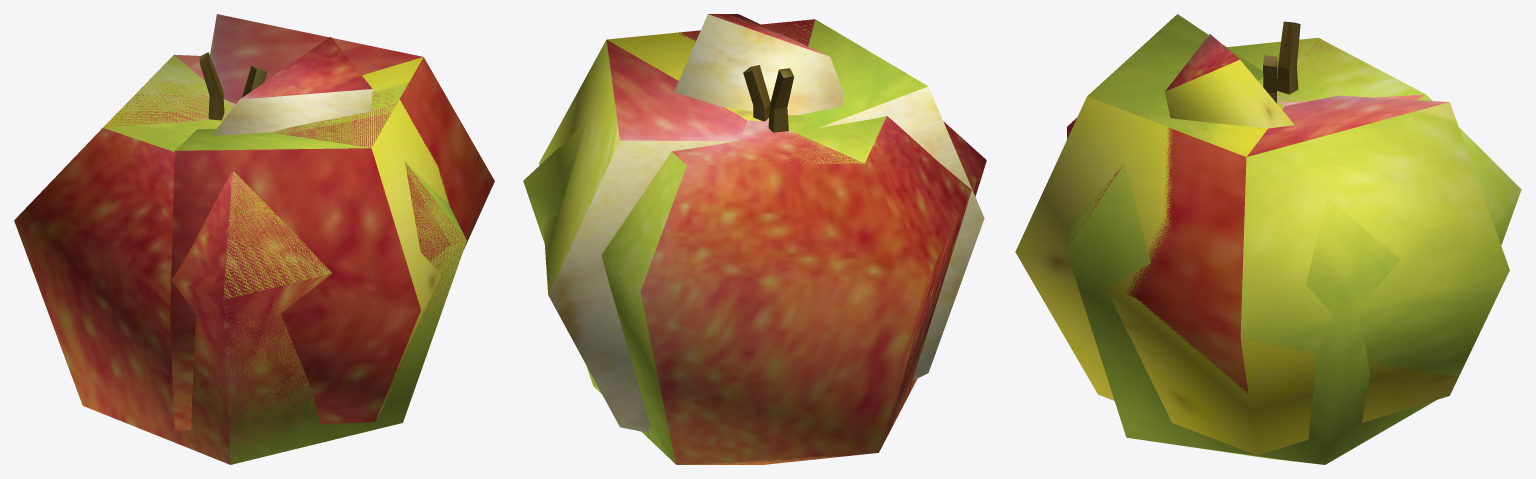
The model's file is Apples_fbx.fbx.
3 views of the same model, side by side, from view 1: azimuth 30°, elevation 25°; view 2: azimuth 150°, elevation 25°; view 3: azimuth 270°, elevation 25° (orthographic). The views are drawn at different scales.
Parts seen in each view (by area): view 1: Apple_Red, Apple_Red_Cut, Apple_Greem, Apple_Yellow_Cut, Apple_Yellow, Apple_Red_Slice, Apple_Green_Cut, Apple_Yellow_Slice; view 2: Apple_Red, Apple_Red_Cut, Apple_Greem, Apple_Green_Cut, Apple_Green_Slice, Apple_Yellow_Cut, Apple_Red_Slice; view 3: Apple_Green_Cut, Apple_Yellow_Cut, Apple_Greem, Apple_Red_Cut, Apple_Yellow_Slice, Apple_Red_Slice, Apple_Red.
Boxes of the visible parts, bbox=[...] form: Apple_Red: bbox=[14, 54, 466, 464]; Apple_Red_Cut: bbox=[170, 14, 494, 430]; Apple_Greem: bbox=[103, 55, 466, 464]; Apple_Yellow_Cut: bbox=[208, 53, 449, 419]; Apple_Yellow: bbox=[104, 56, 466, 463]; Apple_Red_Slice: bbox=[218, 36, 372, 127]; Apple_Green_Cut: bbox=[175, 71, 408, 150]; Apple_Yellow_Slice: bbox=[212, 89, 371, 135]; Apple_Red: bbox=[640, 65, 986, 464]; Apple_Red_Cut: bbox=[548, 19, 814, 433]; Apple_Greem: bbox=[523, 65, 886, 463]; Apple_Green_Cut: bbox=[539, 19, 927, 314]; Apple_Green_Slice: bbox=[674, 14, 843, 115]; Apple_Yellow_Cut: bbox=[607, 32, 984, 380]; Apple_Red_Slice: bbox=[708, 14, 829, 56]; Apple_Green_Cut: bbox=[1087, 14, 1509, 376]; Apple_Yellow_Cut: bbox=[1015, 21, 1458, 455]; Apple_Greem: bbox=[1067, 37, 1521, 464]; Apple_Red_Cut: bbox=[1126, 32, 1448, 394]; Apple_Yellow_Slice: bbox=[1165, 60, 1294, 128]; Apple_Red_Slice: bbox=[1165, 34, 1239, 91]; Apple_Red: bbox=[1067, 39, 1425, 241].
Size of the model in its own units: 0.5372 by 0.4936 by 0.522.
